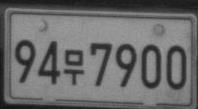0: (139, 43, 162, 89), (165, 44, 188, 90)
4: (37, 39, 61, 84)
7: (89, 42, 112, 86)
9: (13, 38, 36, 84), (115, 42, 137, 87)
무: (63, 48, 85, 86)
